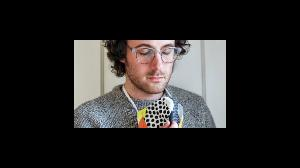mask_weared_incorrect: (129, 43, 175, 107)
